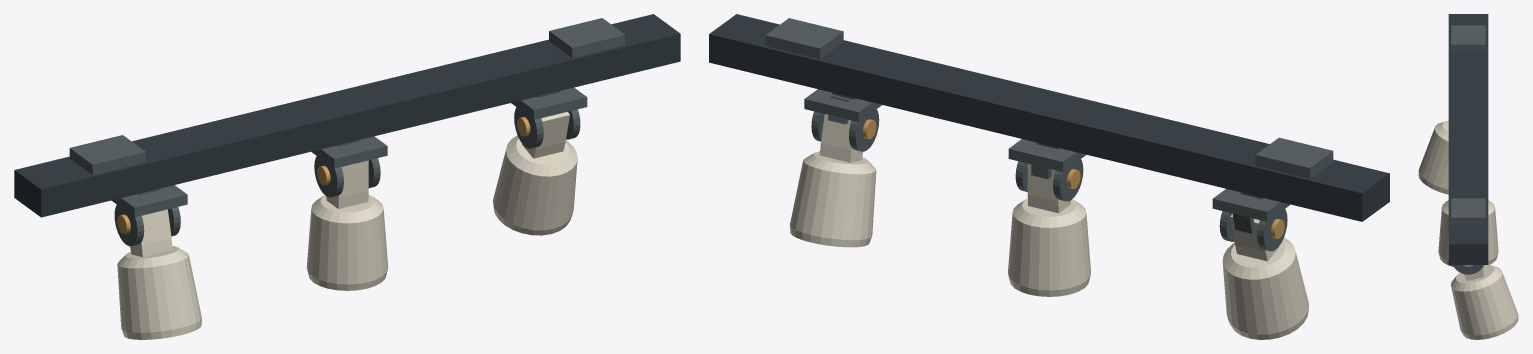
The picture shows the model from 3 angles, left to right: view 1: azimuth 30°, elevation 25°; view 2: azimuth 150°, elevation 25°; view 3: azimuth 270°, elevation 25°; orthographic projection. The views are drawn at different scales.
Parts seen in each view (by area): view 1: Rail_ContinuousDownOpenSlot, Head2_ThickLampHousing, Head1_ThickLampHousing, Head3_ThickLampHousing, TopMount_Left, TopMount_Right, Head2_BracketBridge, Head3_BracketBridge, Head1_BracketBridge, Head1_BoredLampLug, Head2_BoredLampLug, Head3_BoredLampLug (+3 smaller); view 2: Rail_ContinuousDownOpenSlot, Head2_ThickLampHousing, Head3_ThickLampHousing, Head1_ThickLampHousing, TopMount_Left, TopMount_Right, Head2_BracketBridge, Head1_BracketBridge, Head3_BracketBridge, Head3_BoredLampLug, Head2_BoredLampLug, Head1_BoredLampLug (+3 smaller); view 3: Rail_ContinuousDownOpenSlot, Head3_ThickLampHousing, Head1_ThickLampHousing, Head2_ThickLampHousing, TopMount_Left, TopMount_Right, Head3_BracketEarRight, Head3_BoredLampLug.
Boxes of the visible parts, left/top/right/bottom form: Rail_ContinuousDownOpenSlot: left=14, top=14, right=680, bottom=217; Head2_ThickLampHousing: left=306, top=194, right=388, bottom=290; Head1_ThickLampHousing: left=117, top=246, right=201, bottom=339; Head3_ThickLampHousing: left=493, top=135, right=577, bottom=235; TopMount_Left: left=69, top=135, right=145, bottom=175; TopMount_Right: left=549, top=18, right=625, bottom=58; Head2_BracketBridge: left=311, top=136, right=387, bottom=168; Head3_BracketBridge: left=511, top=87, right=587, bottom=119; Head1_BracketBridge: left=111, top=185, right=187, bottom=217; Head1_BoredLampLug: left=130, top=209, right=172, bottom=256; Head2_BoredLampLug: left=326, top=160, right=368, bottom=208; Head3_BoredLampLug: left=522, top=112, right=569, bottom=158; Rail_ContinuousDownOpenSlot: left=709, top=14, right=1389, bottom=221; Head2_ThickLampHousing: left=1008, top=198, right=1090, bottom=296; Head3_ThickLampHousing: left=790, top=151, right=876, bottom=247; Head1_ThickLampHousing: left=1222, top=237, right=1308, bottom=339; TopMount_Left: left=1255, top=137, right=1333, bottom=178; TopMount_Right: left=765, top=18, right=843, bottom=58; Head2_BracketBridge: left=1008, top=139, right=1086, bottom=171; Head1_BracketBridge: left=1212, top=189, right=1290, bottom=221; Head3_BracketBridge: left=804, top=89, right=881, bottom=122; Head3_BoredLampLug: left=819, top=114, right=862, bottom=162; Head2_BoredLampLug: left=1027, top=163, right=1070, bottom=213; Head1_BoredLampLug: left=1230, top=214, right=1279, bottom=261; Rail_ContinuousDownOpenSlot: left=1448, top=14, right=1488, bottom=264; Head3_ThickLampHousing: left=1451, top=264, right=1518, bottom=339; Head1_ThickLampHousing: left=1418, top=120, right=1448, bottom=194; Head2_ThickLampHousing: left=1438, top=200, right=1498, bottom=266; TopMount_Left: left=1451, top=25, right=1485, bottom=52; TopMount_Right: left=1451, top=198, right=1485, bottom=225; Head3_BracketEarRight: left=1453, top=265, right=1483, bottom=274; Head3_BoredLampLug: left=1464, top=266, right=1483, bottom=280.
Size of the model in its own units: 1.92 by 0.5412 by 0.3523.
